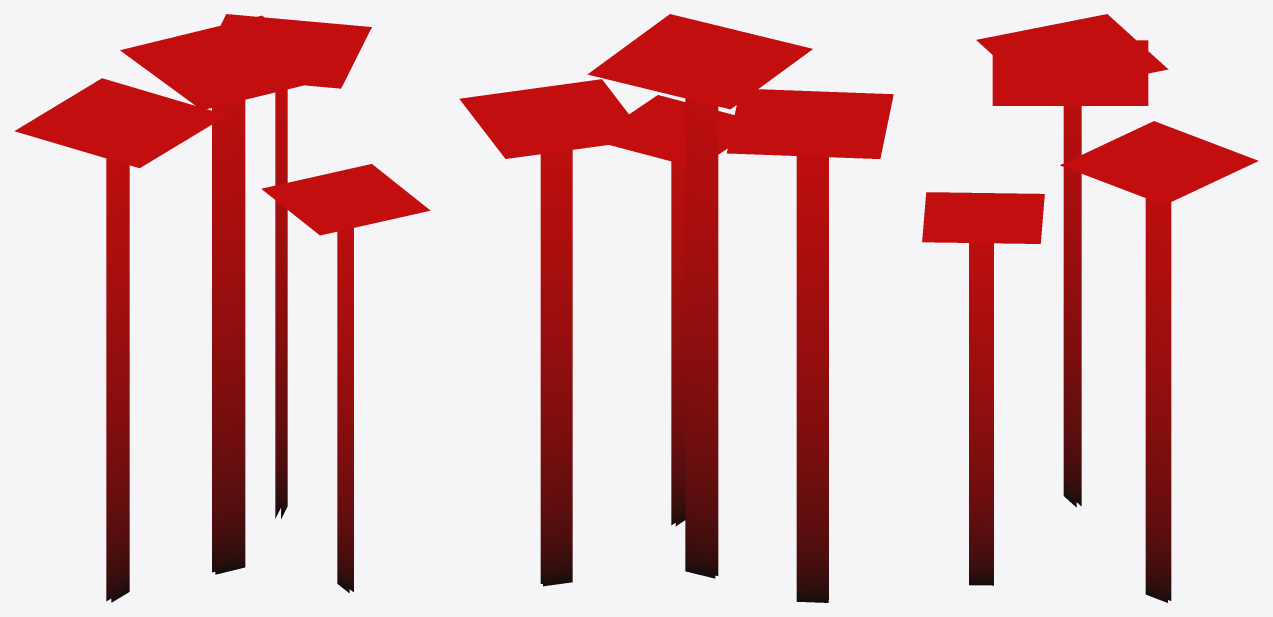
The model's file is SM_Flower_04.fbx.
3 renders of one model, left to right at view 1: azimuth 30°, elevation 25°; view 2: azimuth 150°, elevation 25°; view 3: azimuth 270°, elevation 25°, orthographic. The views are drawn at different scales.
Visible parts, largest first — view 1: SM_Nature_Flower_04; view 2: SM_Nature_Flower_04; view 3: SM_Nature_Flower_04.
Part boxes in pixels (x1,y1,x2,y2): SM_Nature_Flower_04: [14, 14, 430, 602]; SM_Nature_Flower_04: [459, 14, 893, 602]; SM_Nature_Flower_04: [922, 14, 1258, 602].
Size of the model in its own units: 23.99 by 29.96 by 19.05.
